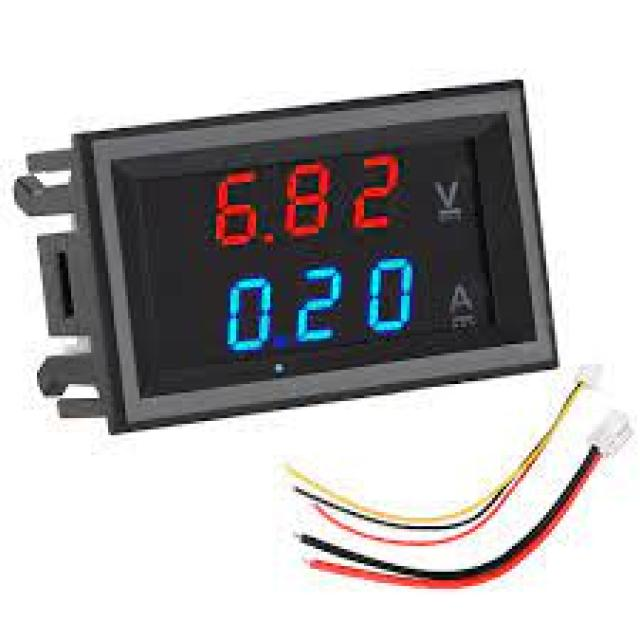0: (204, 271, 286, 358), (366, 252, 430, 343)
2: (348, 151, 426, 235), (293, 263, 356, 350)
6: (194, 172, 277, 257)
8: (282, 161, 341, 242)
screen: (132, 137, 508, 354)
